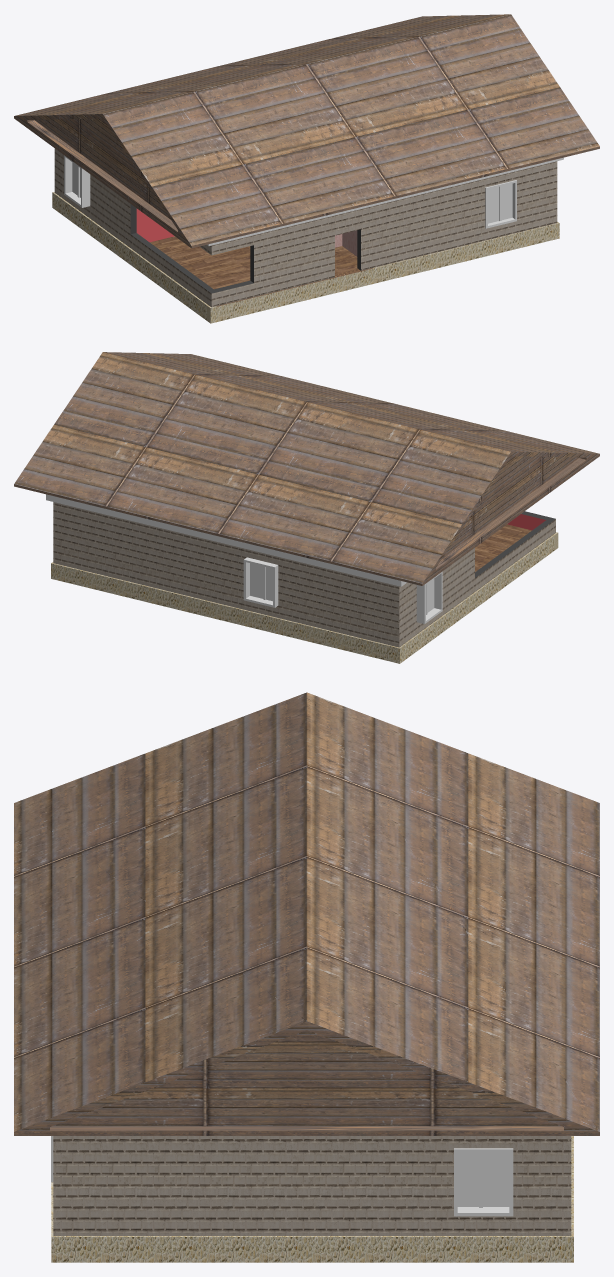
Rendered from HAUSE1.fbx.
3 views of the same model, one above another, from view 1: azimuth 30°, elevation 25°; view 2: azimuth 150°, elevation 25°; view 3: azimuth 270°, elevation 25° (orthographic). The views are drawn at different scales.
Parts seen in each view (by area): view 1: Cube.002, Plane, Plane.001, Plane.006, Plane.004; view 2: Cube.002, Plane, Plane.001, Plane.005, Plane.004; view 3: Cube.002, Plane, Plane.001, Plane.003.
Part boxes in pixels (bbox=[...]): Cube.002: bbox=[14, 14, 599, 248]; Plane: bbox=[54, 148, 563, 307]; Plane.001: bbox=[52, 192, 559, 323]; Plane.006: bbox=[485, 180, 516, 228]; Plane.004: bbox=[64, 155, 90, 207]; Cube.002: bbox=[14, 352, 599, 585]; Plane: bbox=[46, 494, 555, 647]; Plane.001: bbox=[51, 524, 558, 663]; Plane.005: bbox=[243, 557, 278, 607]; Plane.004: bbox=[416, 571, 442, 624]; Cube.002: bbox=[14, 692, 599, 1135]; Plane: bbox=[53, 1136, 571, 1235]; Plane.001: bbox=[51, 1136, 573, 1262]; Plane.003: bbox=[454, 1148, 513, 1216].
Size of the model in its own units: 3479 by 1306 by 2619.
